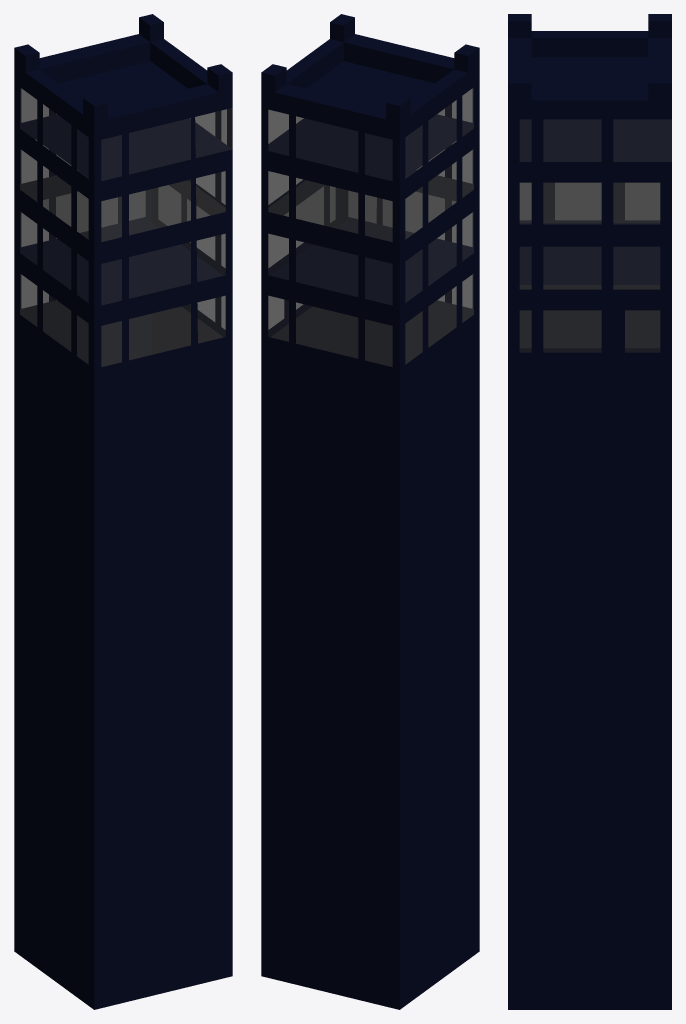
The model's file is biru01.fbx.
3 renders of one model, left to right at view 1: azimuth 30°, elevation 25°; view 2: azimuth 150°, elevation 25°; view 3: azimuth 270°, elevation 25°, orthographic. The views are drawn at different scales.
Visible parts, largest first — view 1: pCube1; view 2: pCube1; view 3: pCube1.
Part boxes in pixels (box(x1,y1,x2,y2)): pCube1: box(14, 14, 232, 1009); pCube1: box(261, 14, 479, 1009); pCube1: box(508, 14, 671, 1009).
Size of the model in its own units: 10 by 62.44 by 10.
